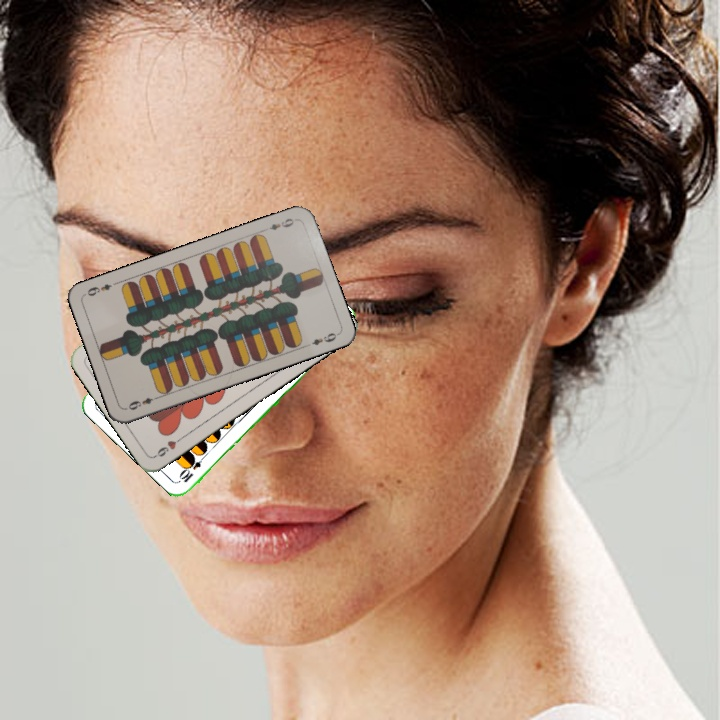E10: (176, 450, 208, 485)
E9: (123, 392, 162, 413), (265, 214, 297, 233)
H9: (151, 432, 187, 460)
